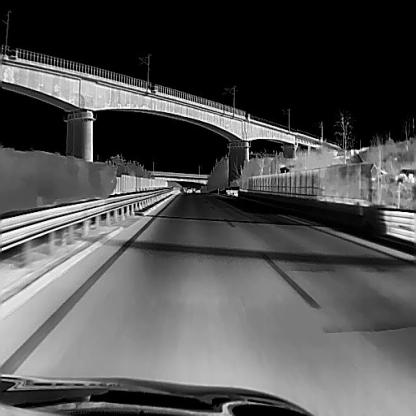car: (185, 186, 192, 192)
